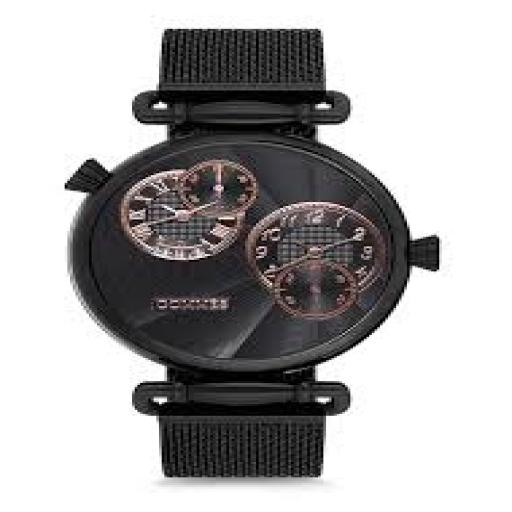KolSaati: (49, 25, 482, 494)
